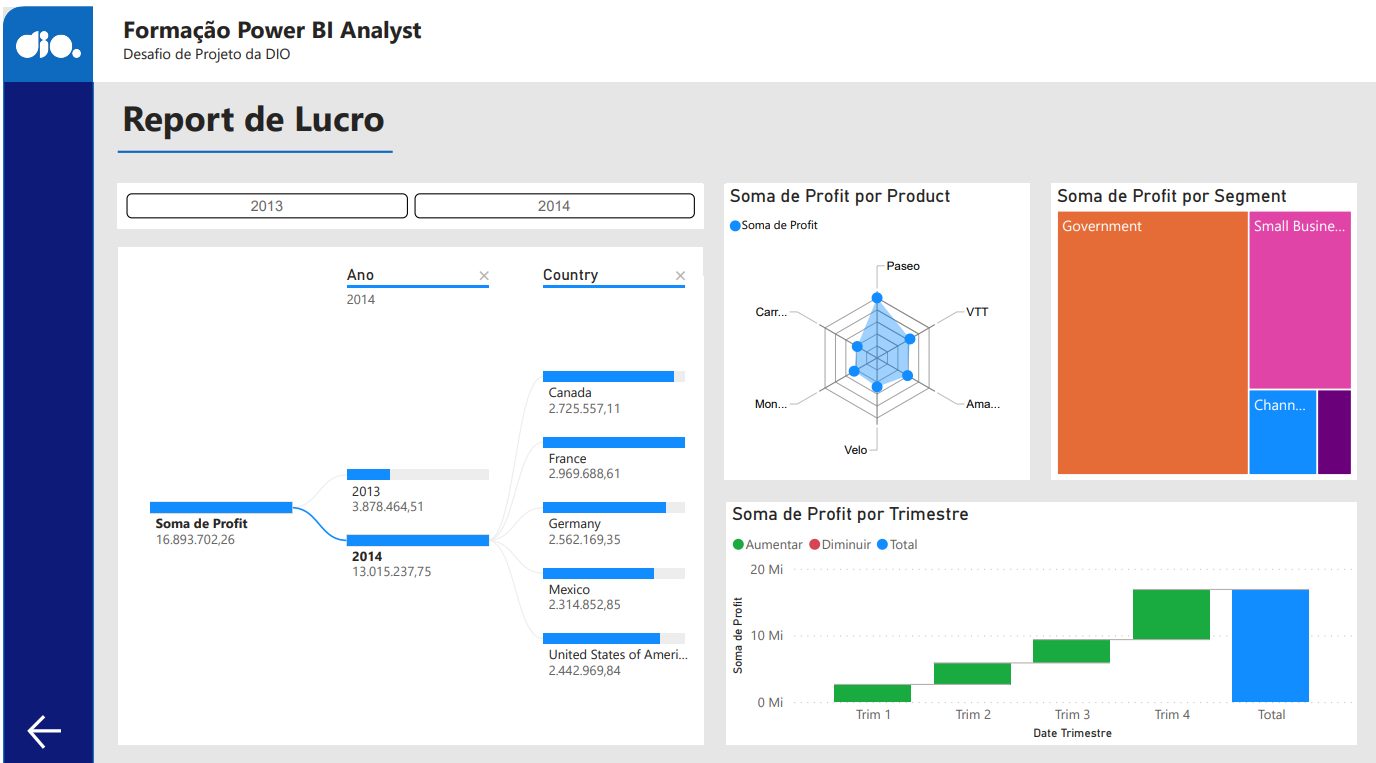

The dashboard page shown, as its layout file describes it:
{"tool":"powerbi","page":{"name":"Página 2","canvas":[1280,720],"ordinal":1},"visuals":[{"type":"shape","box":[0,12.2,1260.3,696.8],"z":0},{"type":"shape","box":[0,12.2,83.1,696.8],"z":1000},{"type":"shape","box":[0,12.2,83.1,68.5],"z":2000},{"type":"image","box":[7.3,12.2,68.5,68.5],"z":3000},{"type":"shape","box":[83.1,12.2,1177.2,68.5],"z":4000},{"type":"shape","box":[105.1,130.8,251.8,28.1],"z":5000},{"type":"textbox","box":[103.9,85.6,299.5,59.9],"z":6000},{"type":"textbox","box":[105.1,13.4,687,67.2],"z":7000},{"type":"actionButton","box":[18.3,656.4,45.2,40.3],"z":8000},{"type":"shape","box":[103.9,173.6,536.6,42.8],"z":9000},{"type":"shape","box":[105.1,259.2,536.6,429.1],"z":10000},{"type":"shape","box":[662.5,465.7,578.2,222.5],"z":11000},{"type":"shape","box":[662.5,173.6,278.7,272.6],"z":12000},{"type":"shape","box":[960.8,173.6,279.9,272.6],"z":13000},{"type":"decompositionTreeVisual","fields":{"Analyze":["Sum(financials.Profit)"],"ExplainBy":["financials.Date.Variation.Hierarquia de datas.Ano","financials.Country"]},"box":[105.1,232.3,535.4,456],"z":14000},{"type":"RadarChart1446119667547","fields":{"Category":["financials.Product"],"Y":["Sum(financials.Profit)"]},"box":[661.3,174.8,279.9,271.4],"z":15000},{"type":"waterfallChart","fields":{"Category":["financials.Date.Variation.Hierarquia de datas.Trimestre"],"Y":["Sum(financials.Profit)"]},"box":[662.5,465.7,578.2,222.5],"z":16000},{"type":"treemap","fields":{"Group":["financials.Segment"],"Values":["Sum(financials.Profit)"]},"box":[960.8,174.8,279.9,271.4],"z":16001},{"type":"ChicletSlicer1448559807354","fields":{"Category":["financials.Date.Variation.Hierarquia de datas.Ano"]},"box":[105.1,174.8,536.6,41.6],"z":16002}]}

Visuals, with their boxes on the page's 1280x720 design canvas (x1, y1, x2, y2). These are canvas units, not pixel positions in the 1376x763 screenshot, which may show the page scaled, cropped or inside an application window:
shape: crop(0, 12, 1260, 709)
shape: crop(0, 12, 83, 709)
shape: crop(0, 12, 83, 81)
image: crop(7, 12, 76, 81)
shape: crop(83, 12, 1260, 81)
shape: crop(105, 131, 357, 159)
textbox: crop(104, 86, 403, 146)
textbox: crop(105, 13, 792, 81)
actionButton: crop(18, 656, 64, 697)
shape: crop(104, 174, 640, 216)
shape: crop(105, 259, 642, 688)
shape: crop(662, 466, 1241, 688)
shape: crop(662, 174, 941, 446)
shape: crop(961, 174, 1241, 446)
decompositionTreeVisual - Sum(financials.Profit) x financials.Date.Variation.Hierarquia de datas.Ano: crop(105, 232, 640, 688)
RadarChart1446119667547 - financials.Product x Sum(financials.Profit): crop(661, 175, 941, 446)
waterfallChart - financials.Date.Variation.Hierarquia de datas.Trimestre x Sum(financials.Profit): crop(662, 466, 1241, 688)
treemap - financials.Segment x Sum(financials.Profit): crop(961, 175, 1241, 446)
ChicletSlicer1448559807354 - financials.Date.Variation.Hierarquia de datas.Ano: crop(105, 175, 642, 216)
